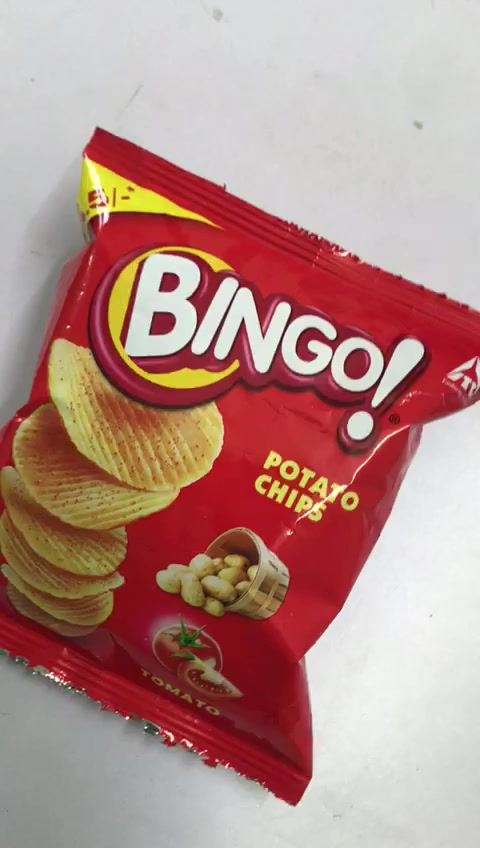bingo: (4, 127, 479, 797)
